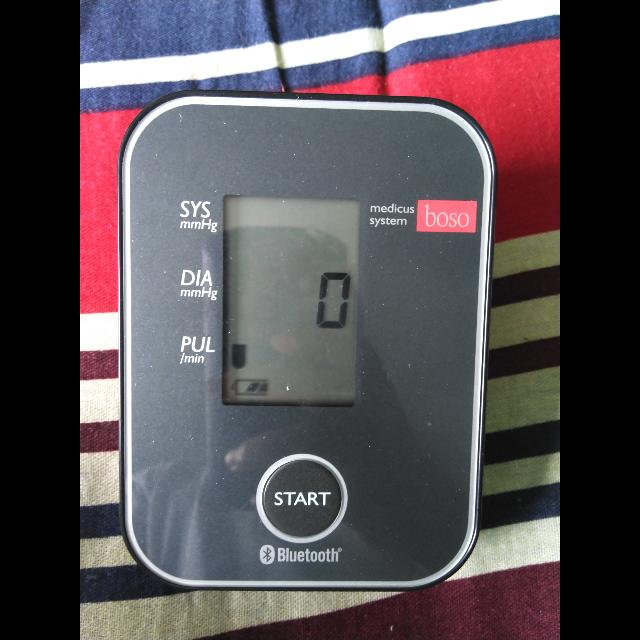Blood-Pressure-Monitor: (102, 70, 506, 594)
